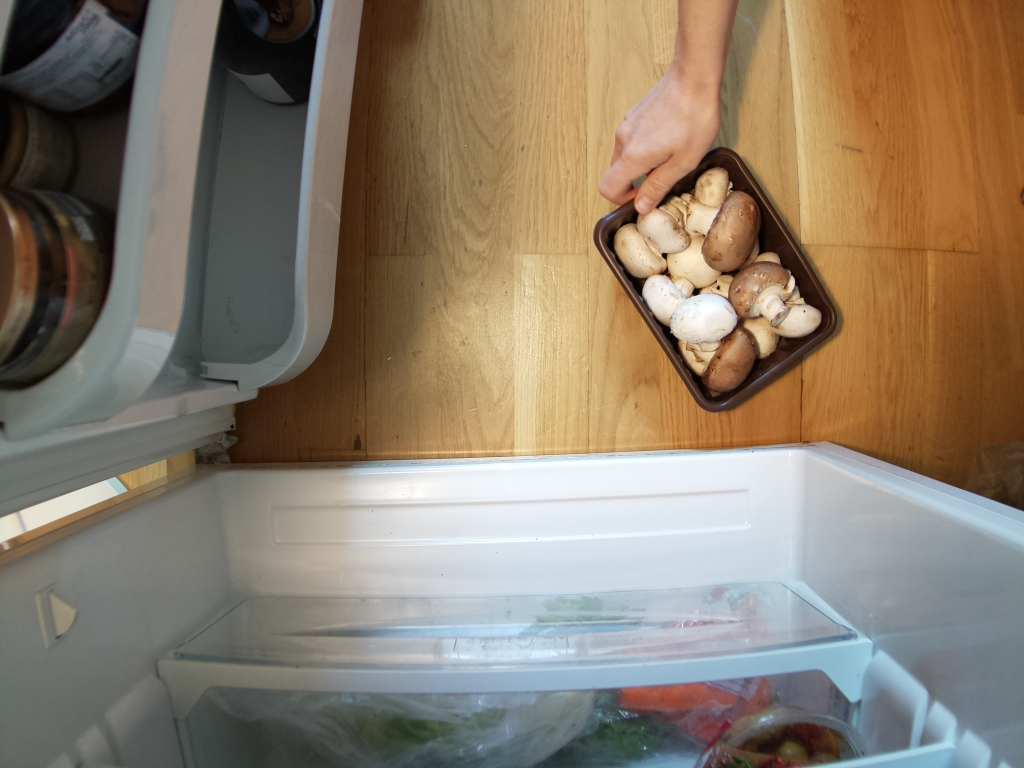mushrooms: (599, 149, 843, 409)
